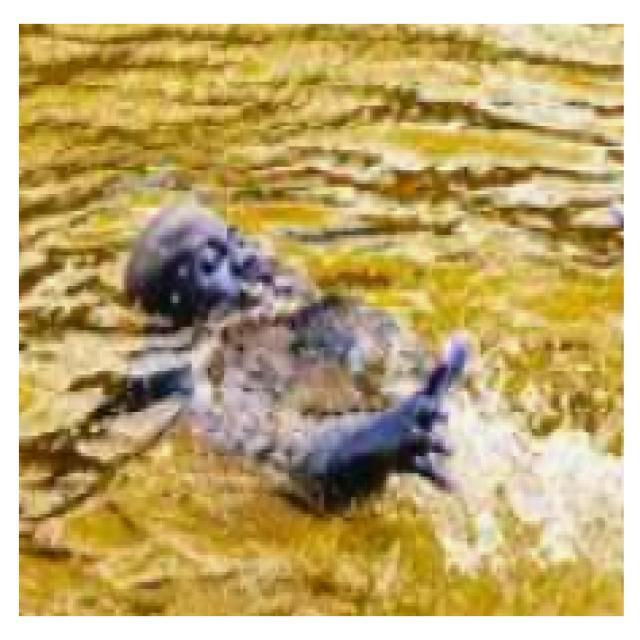Out of Water: (120, 188, 478, 526)
